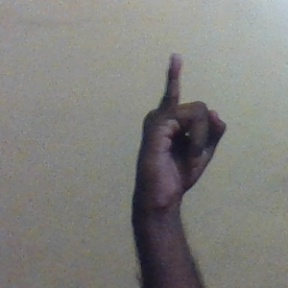I: (131, 49, 227, 208)
